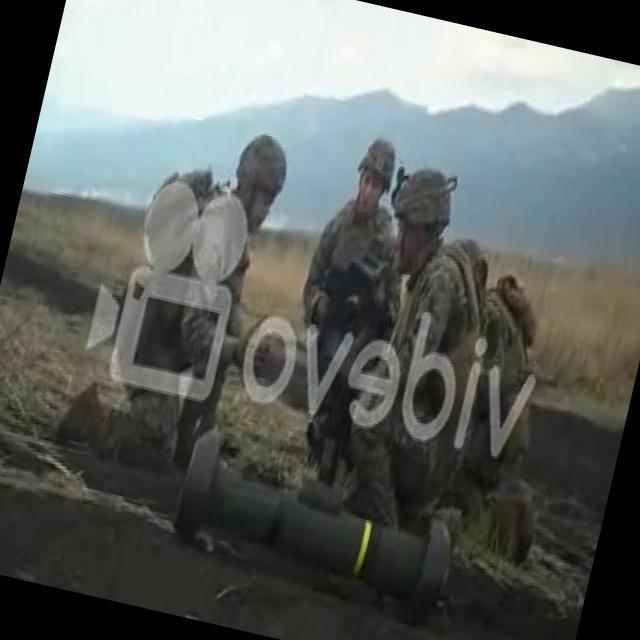rocket: (166, 428, 470, 616)
